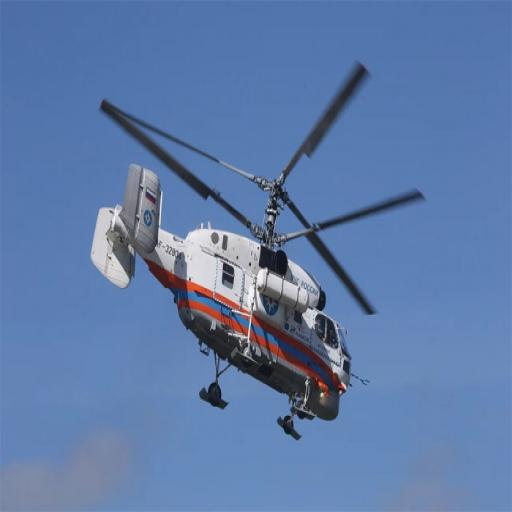helicopter: (85, 52, 430, 453)
